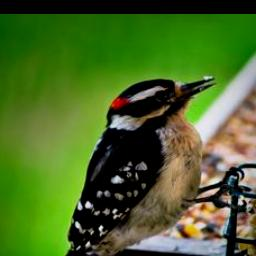Woodpecker: (53, 75, 250, 256)
